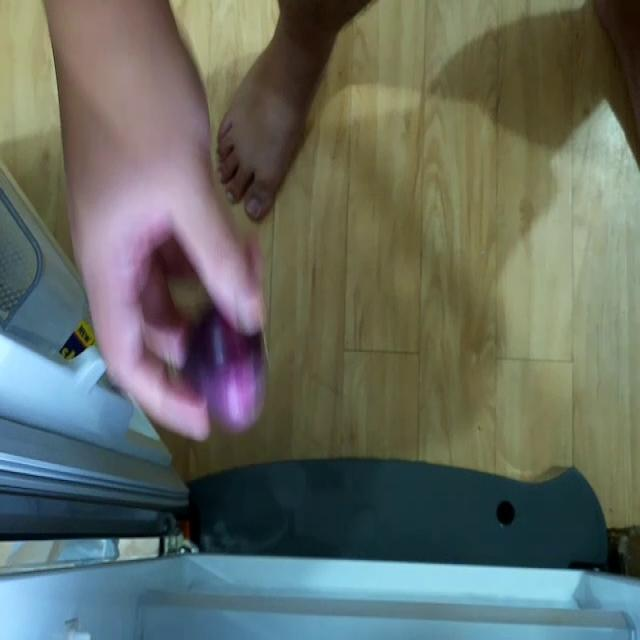onion: (162, 302, 272, 432)
